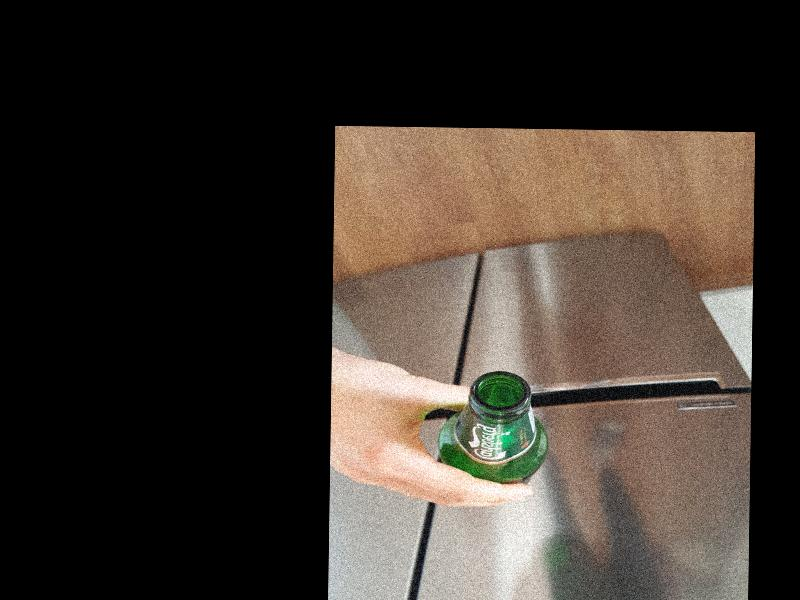Beer: (440, 370, 548, 484)
